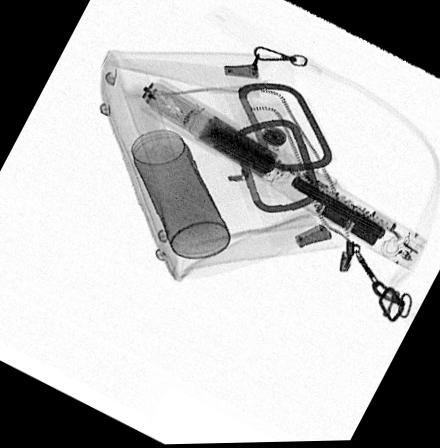Baton: (138, 76, 431, 275)
